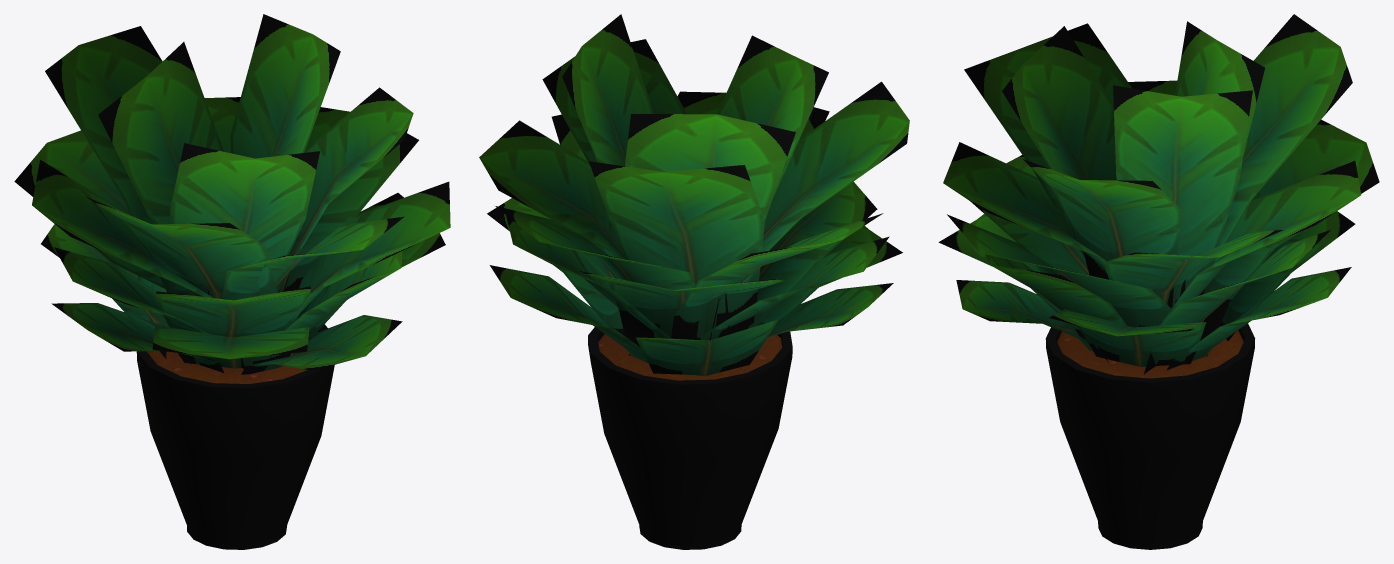
File: obj_plants_leafplant.fbx
The picture shows the model from 3 angles, left to right: view 1: azimuth 30°, elevation 25°; view 2: azimuth 150°, elevation 25°; view 3: azimuth 270°, elevation 25°; orthographic projection. The views are drawn at different scales.
Visible parts, largest first — view 1: leafplant3; view 2: leafplant3; view 3: leafplant3.
Part boxes in pixels (x1=…): leafplant3: x1=14, y1=14, x2=450, y2=549; leafplant3: x1=479, y1=14, x2=909, y2=549; leafplant3: x1=938, y1=14, x2=1379, y2=549.
Size of the model in its own units: 4.15 by 5.13 by 4.22.
